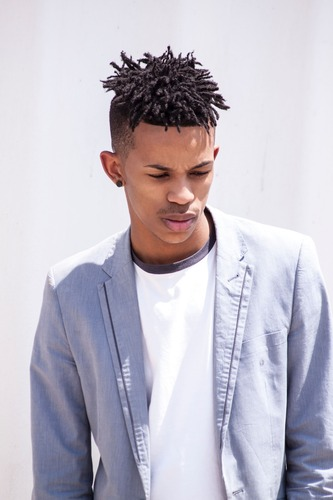without_mask: (126, 141, 214, 240)
